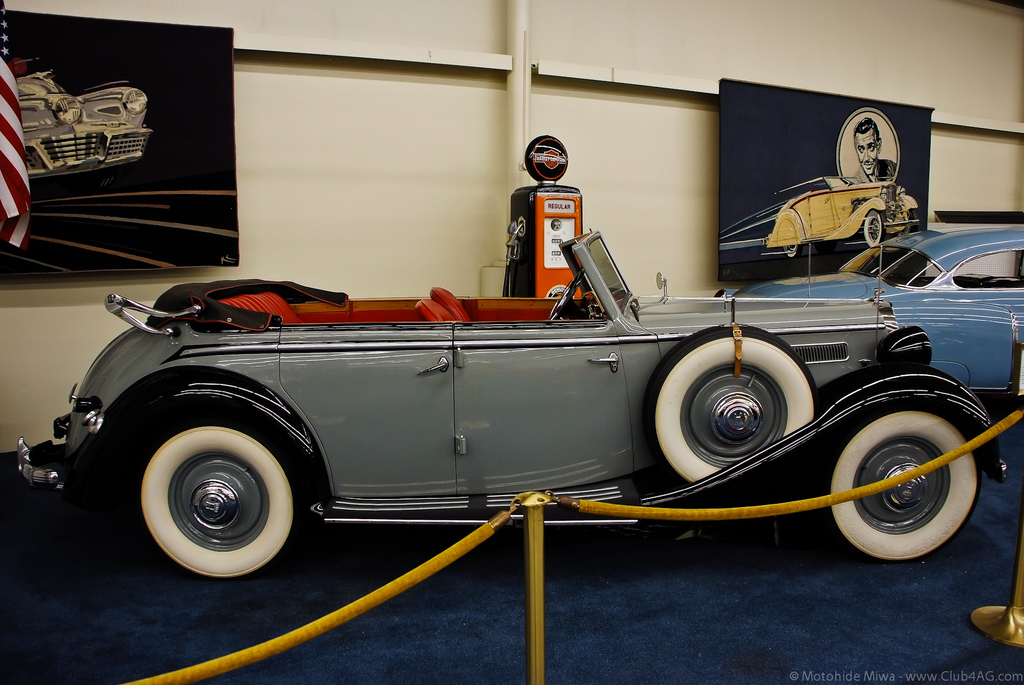Car: (16, 243, 1008, 580), (716, 221, 1023, 393), (716, 177, 919, 283), (12, 60, 153, 195)
